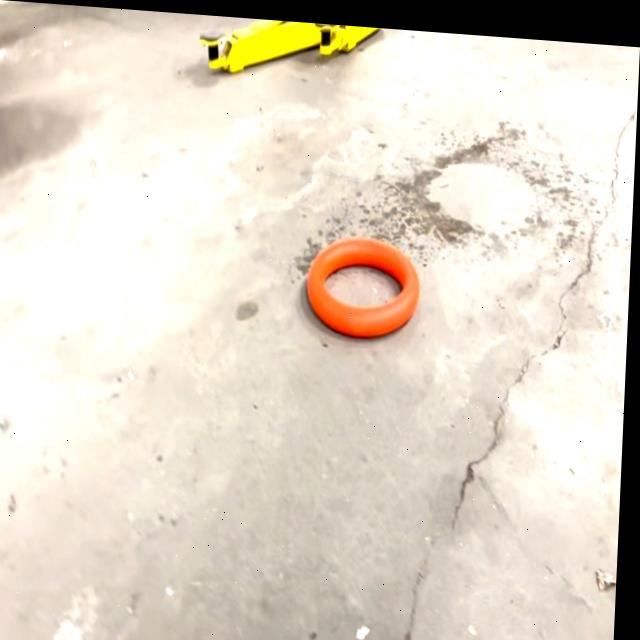note: (300, 230, 422, 342)
